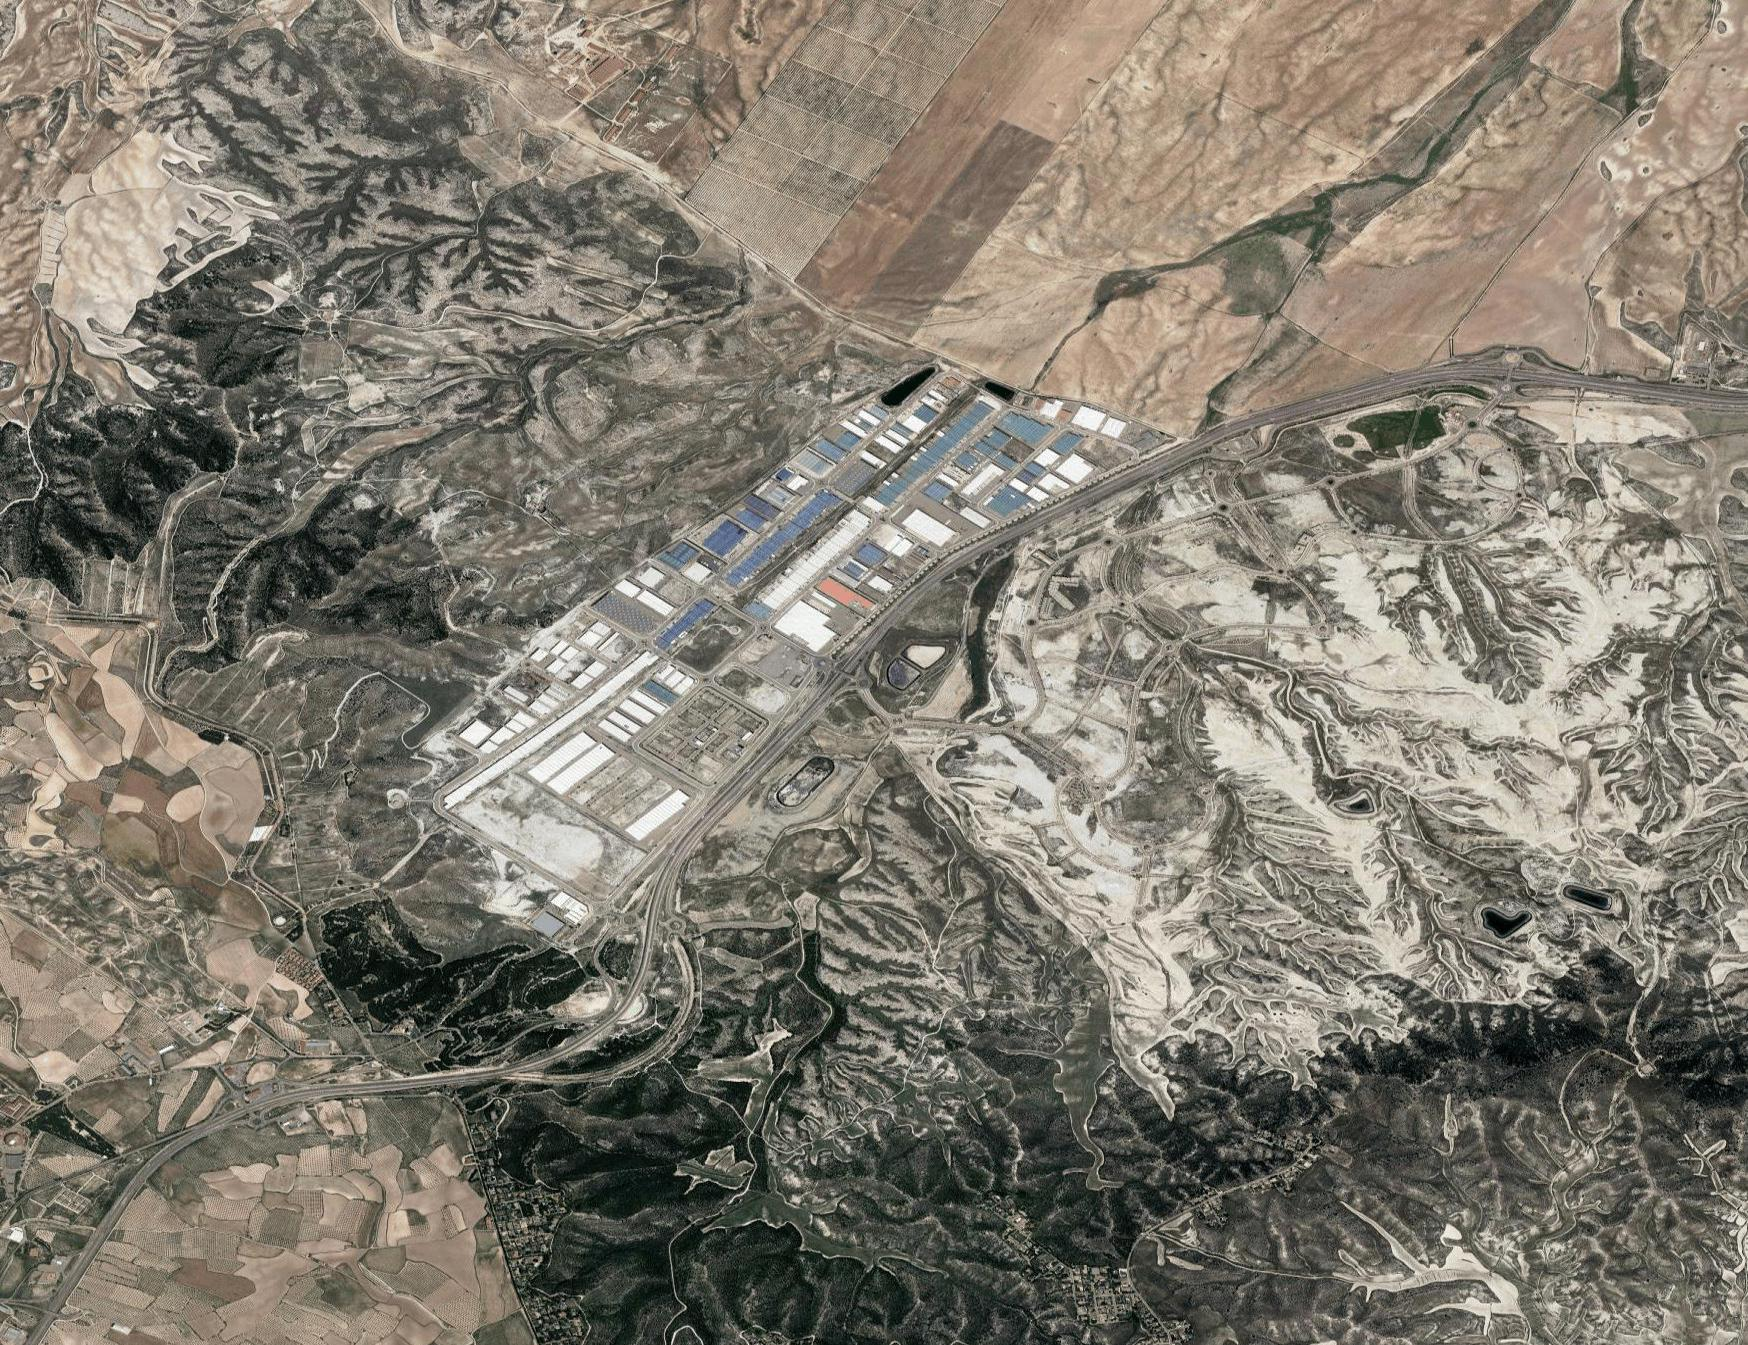industrial: (463, 391, 1015, 859)
motorway: (1429, 338, 1747, 435), (16, 1156, 175, 1345), (1186, 345, 1431, 463), (822, 523, 984, 682), (683, 677, 842, 836), (981, 431, 1186, 555), (595, 835, 699, 1045), (163, 1060, 382, 1159), (379, 1014, 598, 1113)
